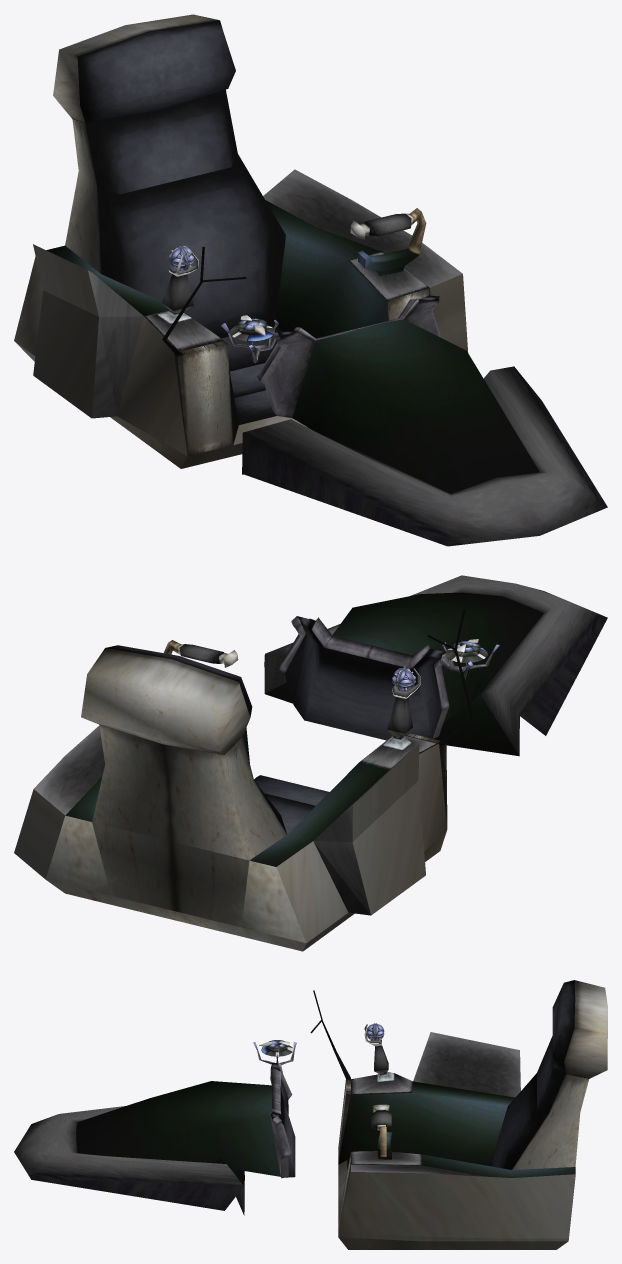
File: cockpit.DAE
3 views of the same model, one above another, from view 1: azimuth 30°, elevation 25°; view 2: azimuth 150°, elevation 25°; view 3: azimuth 270°, elevation 25° (orthographic). The views are drawn at different scales.
Parts seen in each view (by area): view 1: cockpit; view 2: cockpit; view 3: cockpit.
Boxes of the visible parts, x1,y1,x2,y2 form: cockpit: [14, 14, 607, 546]; cockpit: [14, 575, 607, 951]; cockpit: [14, 980, 607, 1249].
Bounding box in the file's own units: 1.14 × 0.9426 × 2.46.
